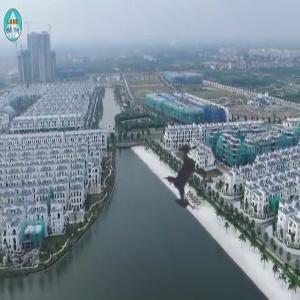drone: (133, 119, 244, 230)
